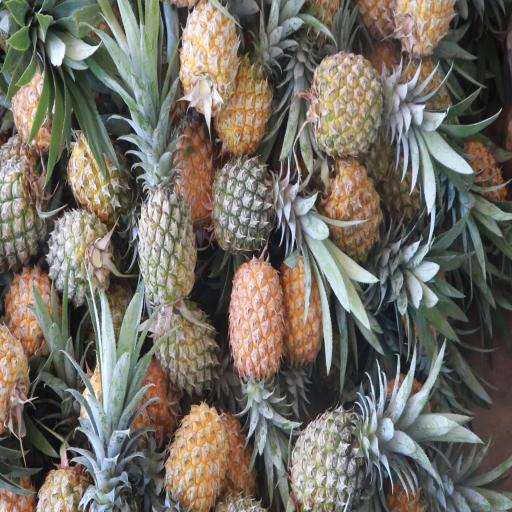------------------------------: (137, 149, 196, 300), (314, 54, 385, 158), (151, 294, 218, 395), (65, 126, 128, 222), (2, 264, 56, 360)
Pineapple - v8 v1: (160, 408, 229, 512), (229, 259, 284, 383), (180, 0, 239, 110), (218, 45, 274, 155), (282, 253, 333, 369), (327, 158, 386, 258), (166, 113, 217, 225)
